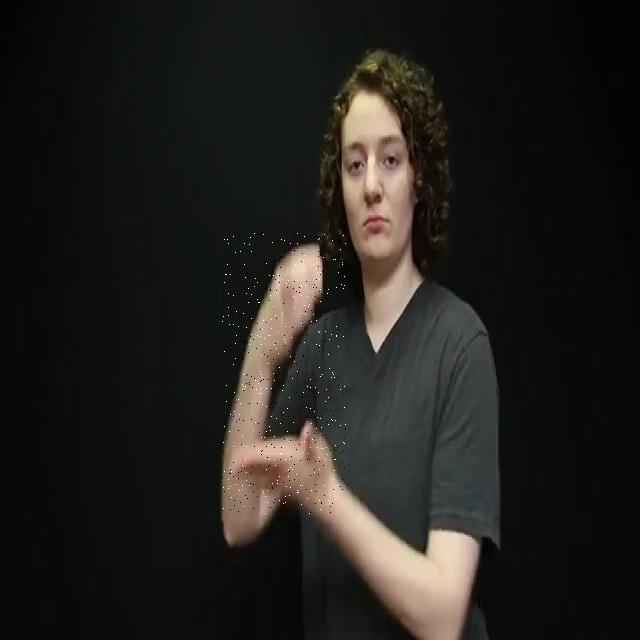cup: (222, 231, 346, 514)
